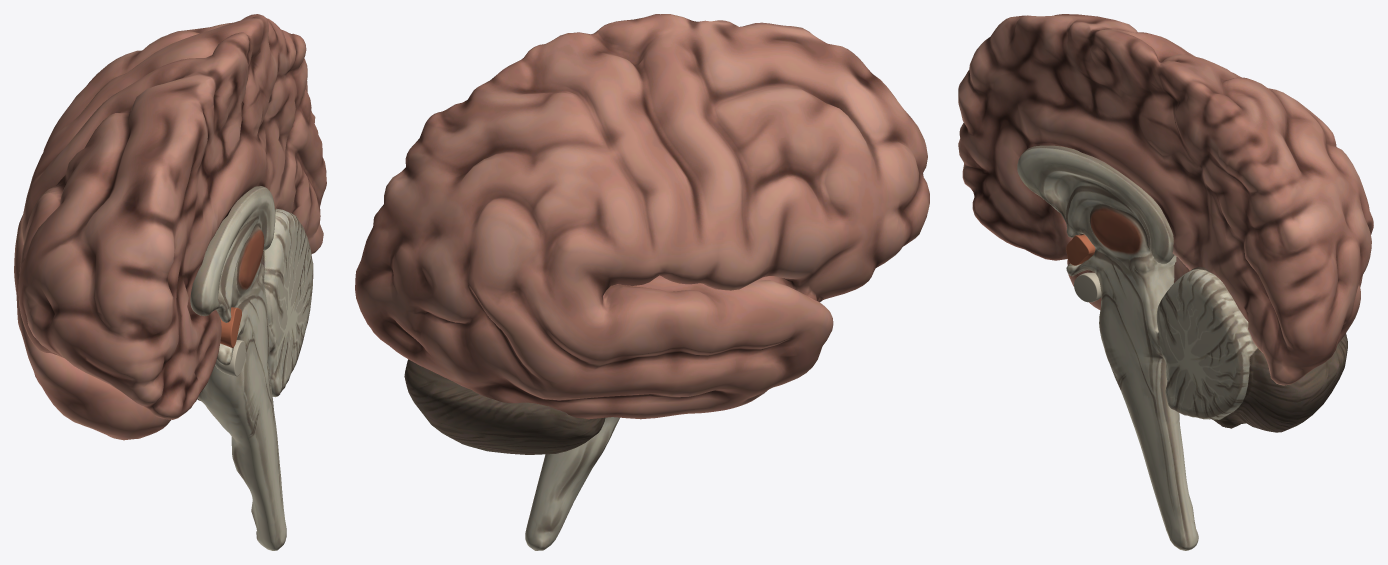
File: brain_model_right_-_general_anatomy.glb
3 renders of one model, left to right at view 1: azimuth 30°, elevation 25°; view 2: azimuth 150°, elevation 25°; view 3: azimuth 270°, elevation 25°, orthographic. The views are drawn at different scales.
Parts seen in each view (by area): view 1: node_id30; view 2: node_id30; view 3: node_id30.
Boxes of the visible parts, x1,y1,x2,y2 form: node_id30: [14, 14, 326, 550]; node_id30: [355, 14, 929, 550]; node_id30: [958, 14, 1373, 550].
Bounding box in the file's own units: 0.00299 × 0.00364 × 0.00286.
Materials: 1 (1 with a texture image).
